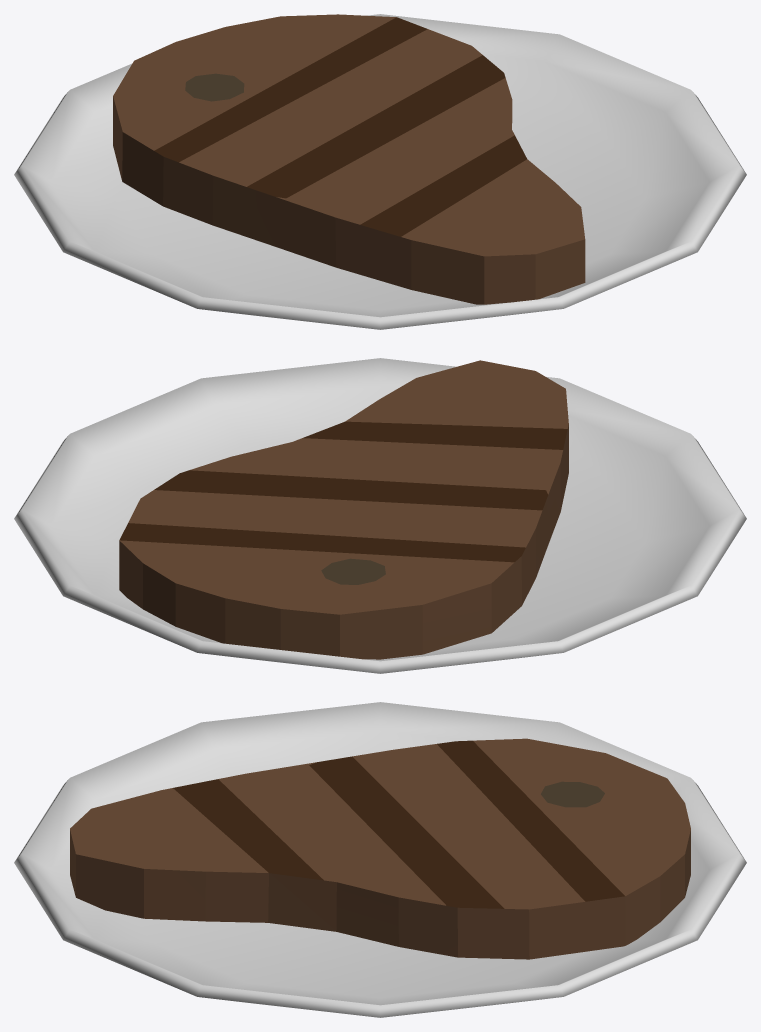
The model's file is dish1.fbx.
The picture shows the model from 3 angles, top to bottom: view 1: azimuth 30°, elevation 25°; view 2: azimuth 150°, elevation 25°; view 3: azimuth 270°, elevation 25°; orthographic projection.
Parts seen in each view (by area): view 1: Plate_001, Cylinder, Cylinder.001, Cylinder.002; view 2: Plate_001, Cylinder, Cylinder.001, Cylinder.002; view 3: Cylinder, Plate_001, Cylinder.001, Cylinder.002.
Boxes of the visible parts, x1,y1,x2,y2 form: Plate_001: (14, 14, 746, 329); Cylinder: (113, 14, 585, 304); Cylinder.001: (154, 17, 526, 236); Cylinder.002: (185, 73, 244, 101); Plate_001: (14, 358, 746, 673); Cylinder: (119, 360, 568, 659); Cylinder.001: (119, 421, 567, 562); Cylinder.002: (321, 558, 385, 584); Cylinder: (70, 738, 690, 959); Plate_001: (14, 702, 746, 1017); Cylinder.001: (173, 740, 624, 908); Cylinder.002: (541, 781, 604, 807).
Bounding box in the file's own units: 23.17 × 2.87 × 23.17.
